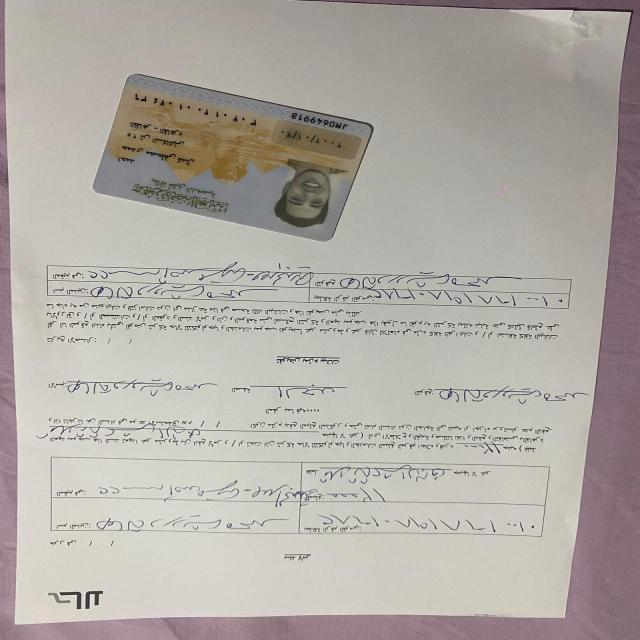id_card: (84, 69, 389, 245)
